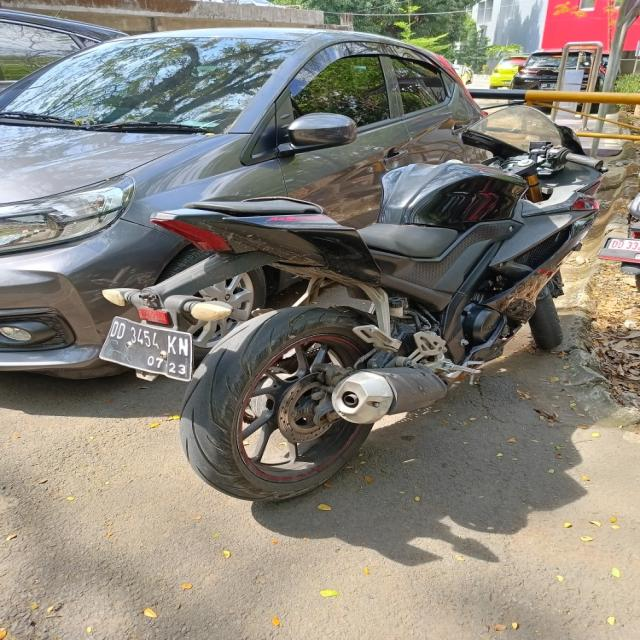plates: (98, 314, 196, 378)
